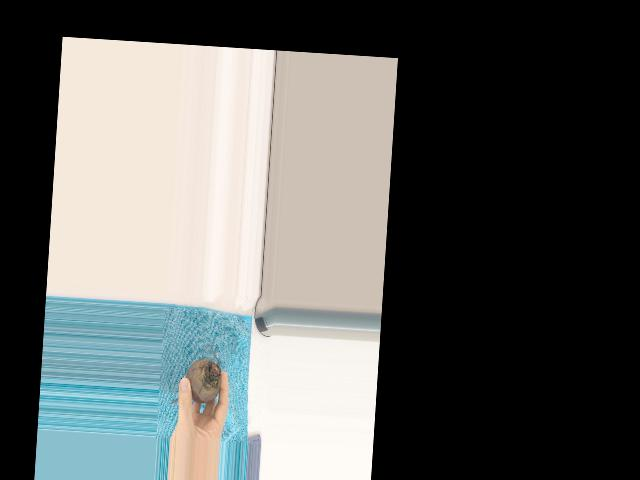beet: (169, 342, 222, 406)
